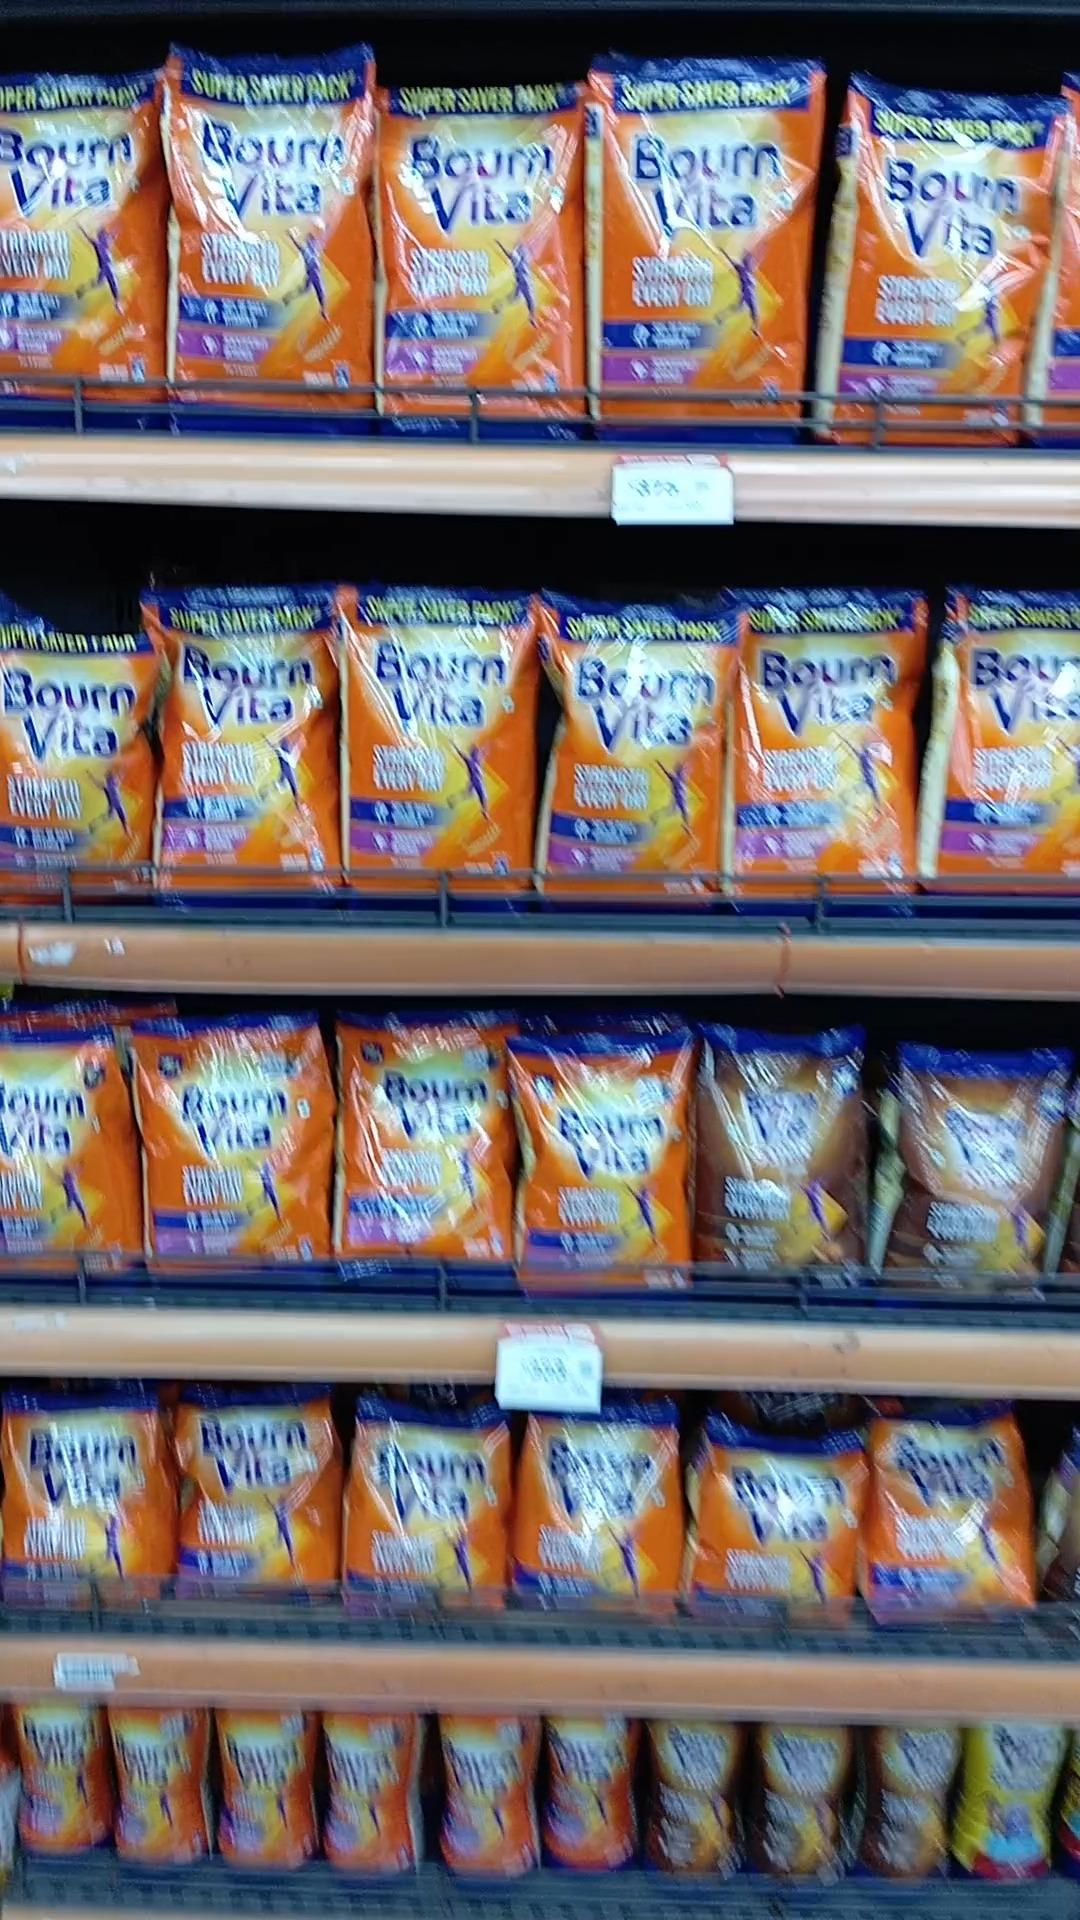BOURN_VITA_1_KG_POUCH: (593, 50, 804, 447), (165, 41, 357, 431), (375, 82, 579, 444), (848, 79, 1019, 451), (338, 578, 527, 911), (737, 578, 911, 907), (1, 70, 160, 431), (158, 588, 328, 907), (547, 596, 713, 916), (938, 584, 1080, 920), (0, 625, 148, 909)
BOURN_VITA_500_G_JAR: (438, 1710, 531, 1890), (326, 1708, 415, 1895), (219, 1702, 310, 1884), (116, 1698, 204, 1876), (547, 1718, 636, 1880), (18, 1687, 98, 1866)
BOURN_VITA_500_G_POUCH: (4, 1393, 165, 1618), (175, 1385, 335, 1611), (869, 1407, 1027, 1630), (698, 1406, 853, 1631), (347, 1402, 506, 1618), (531, 1415, 679, 1634)
BOURN_VITA_750_G_POUCH: (141, 1009, 319, 1278), (510, 1039, 687, 1296), (338, 1009, 508, 1270), (0, 1030, 131, 1284)
BOURN_VITA_CHAMPS_500_G_JAR: (963, 1721, 1052, 1896)
BOURN_VITA_FIVE_STAR_MAGIC_500_G_JAR: (646, 1717, 740, 1896), (861, 1721, 956, 1896), (757, 1724, 844, 1899)
BOURN_VITA_FIVE_STAR_MAGIC_750_G_POUCH: (695, 1026, 864, 1288), (895, 1038, 1063, 1286)
